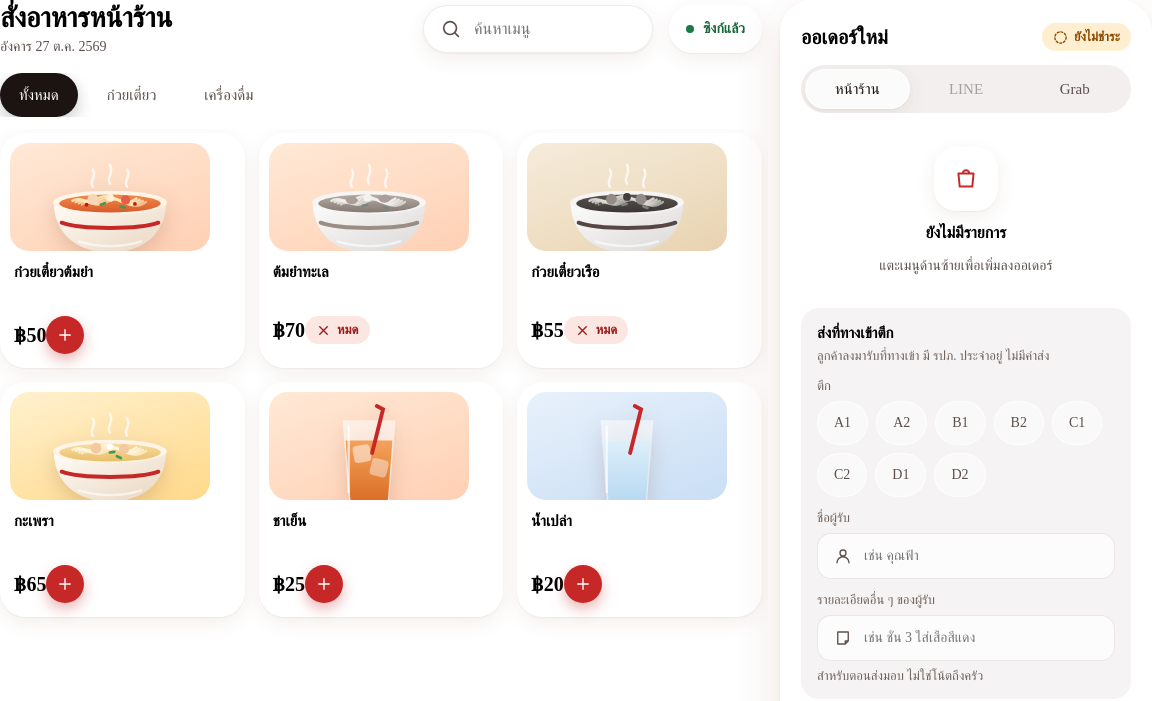
Scenario: adding a dish › a dish whose groups are all optional › opens the sheet on a tap, and "add" works with nothing chosen
This screenshot has width=1152, height=701.
Click the button "กะเพรา ฿65": {"x": 122, "y": 500} x1=0 y1=382 x2=245 y2=617
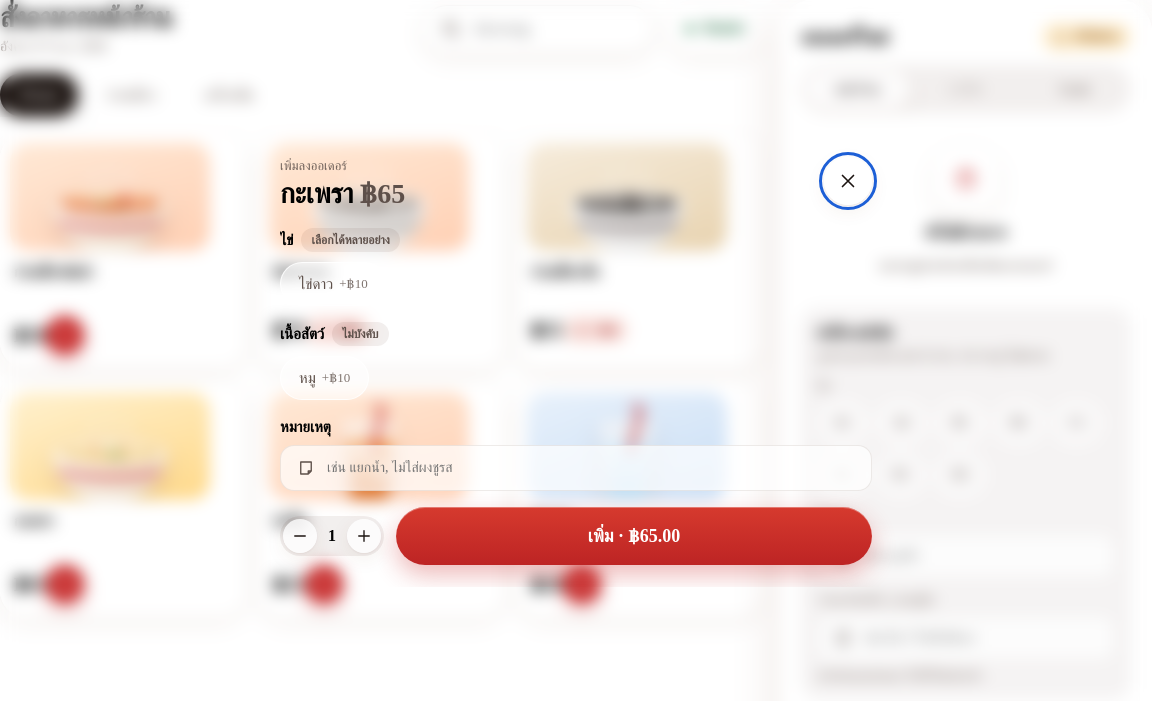
Now the checkbox labelled "ไข่ดาว +฿10" is shown, box x1=280 y1=262 x2=387 y2=306
Now the radio button labelled "หมู +฿10" is shown, box x1=280 y1=356 x2=369 y2=400
Now the button "เพิ่ม · ฿65.00" is enabled
Click the button "เพิ่ม · ฿65.00": {"x": 634, "y": 536} x1=396 y1=506 x2=872 y2=564
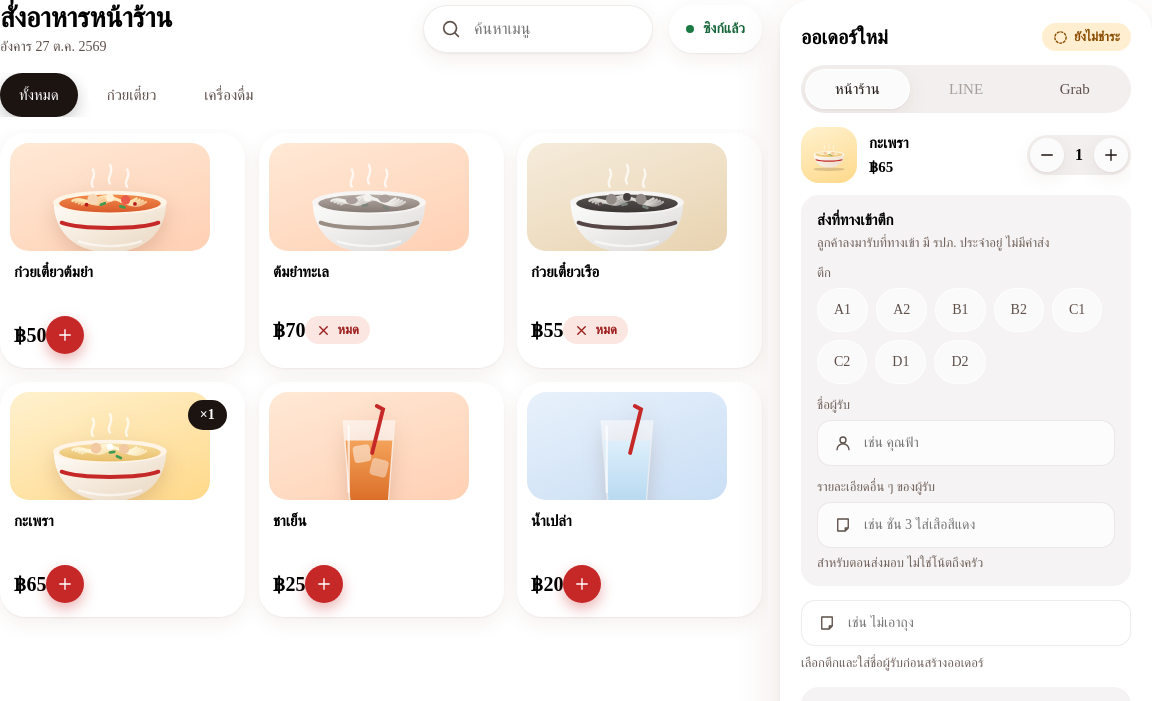
Now the dialog is gone
